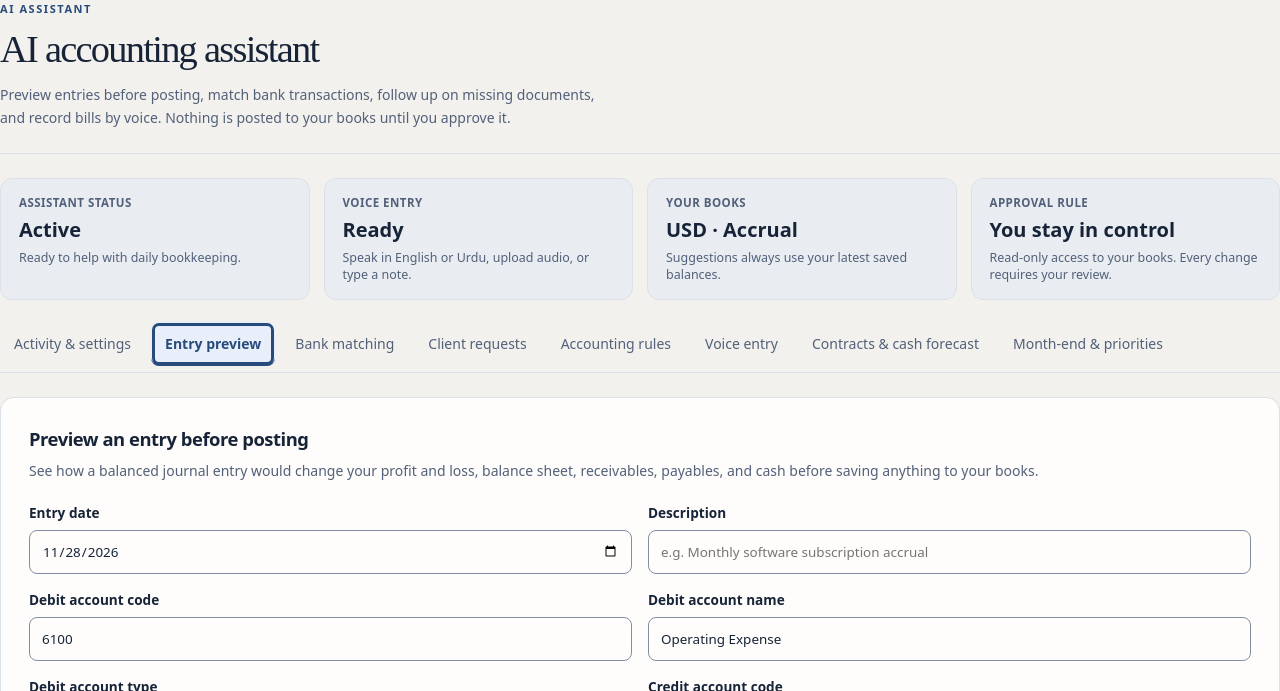
AI accounting assistant UI › renders plain-language summary, clean tabs, and voice audio controls without internal labels
Earlier steps of the test are not shown.
Expected: the heading "Preview an entry before posting" is shown, [29, 426, 308, 451]
Click the tab "Accounting rules" at (616, 344), box [547, 322, 685, 366]
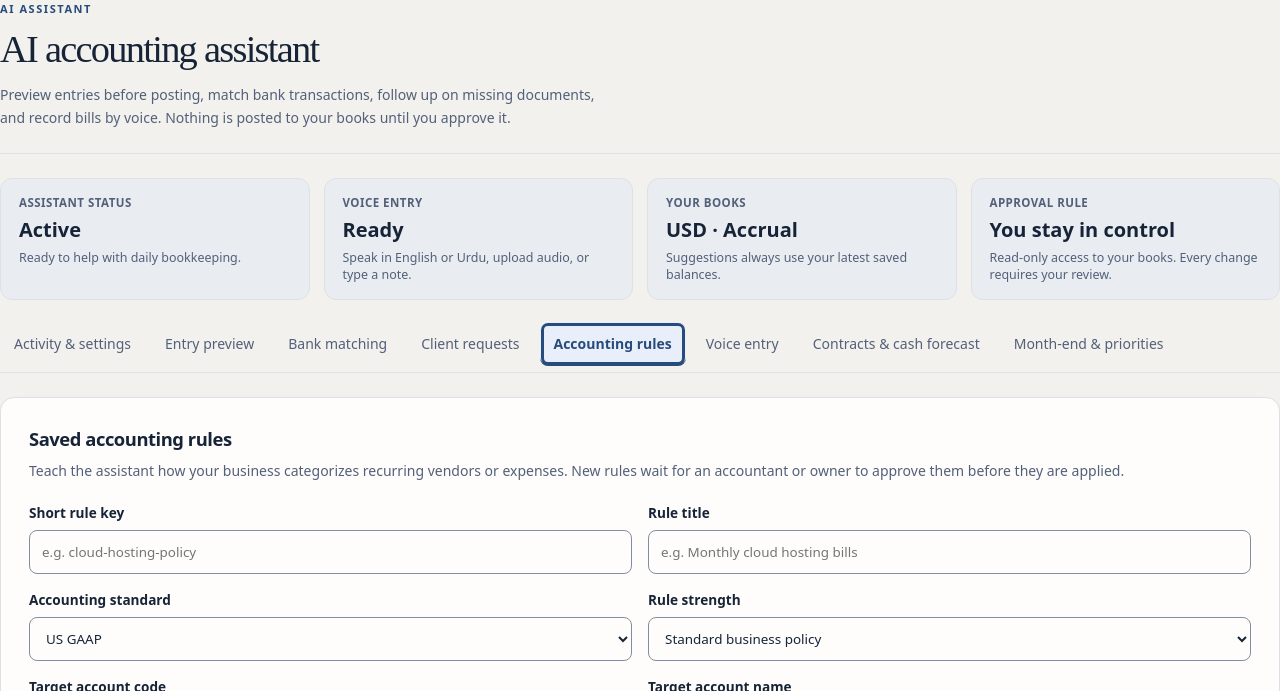
Now the heading "Saved accounting rules" is shown, box [29, 426, 232, 451]
Click the tab "Bank matching" at (338, 344), box [274, 322, 401, 366]
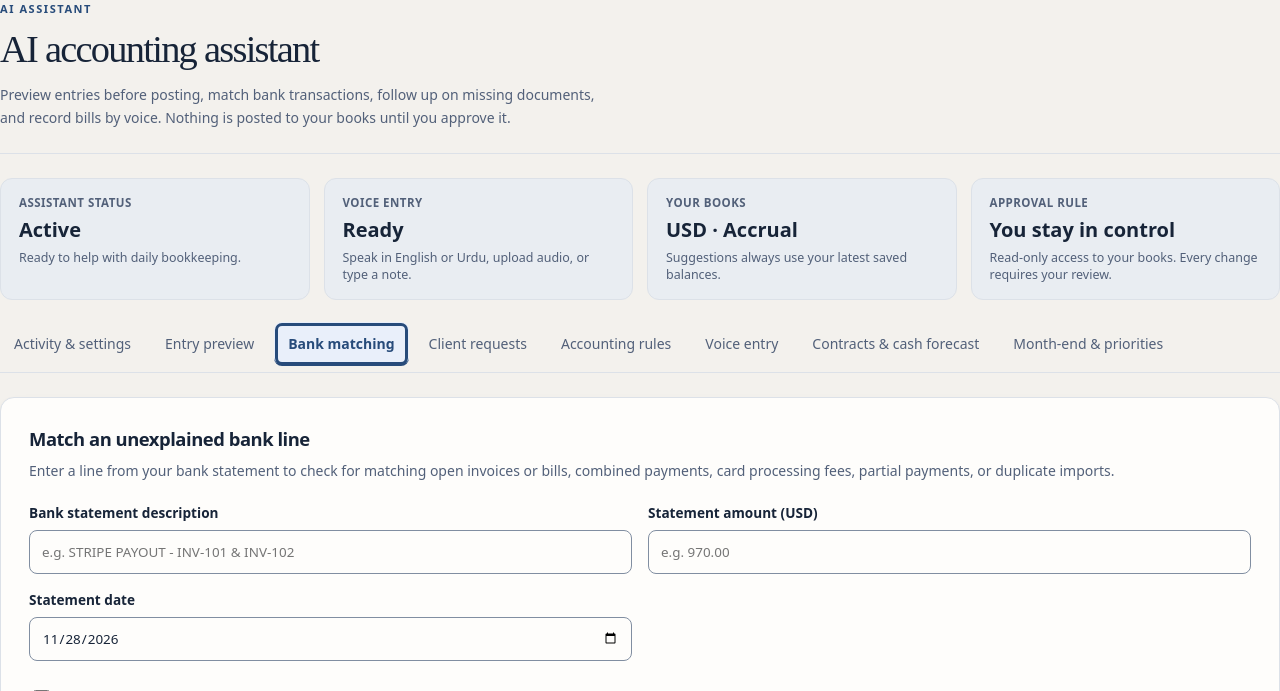
Now the heading "Match an unexplained bank line" is shown, box [29, 426, 310, 451]
Click the tab "Client requests" at (478, 344), box [415, 322, 541, 366]
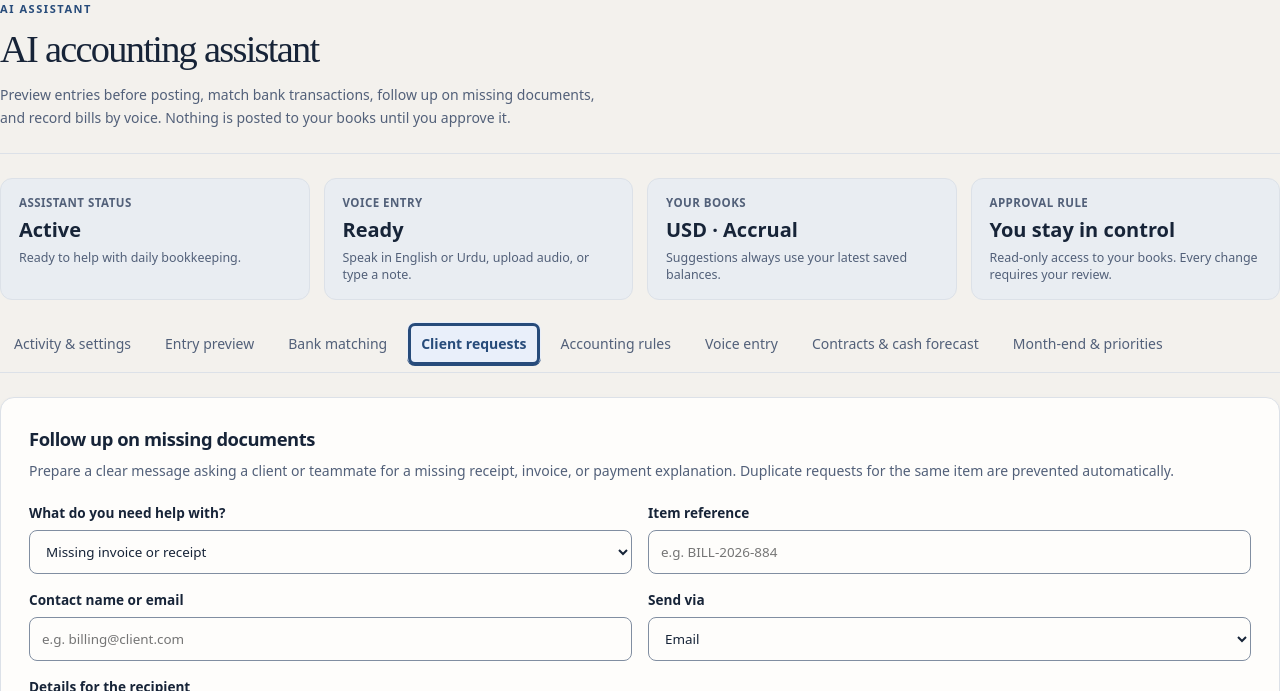
Now the heading "Follow up on missing documents" is shown, box [29, 426, 315, 451]
Click the tab "Month-end & priorities" at (1088, 344), box [999, 322, 1177, 366]
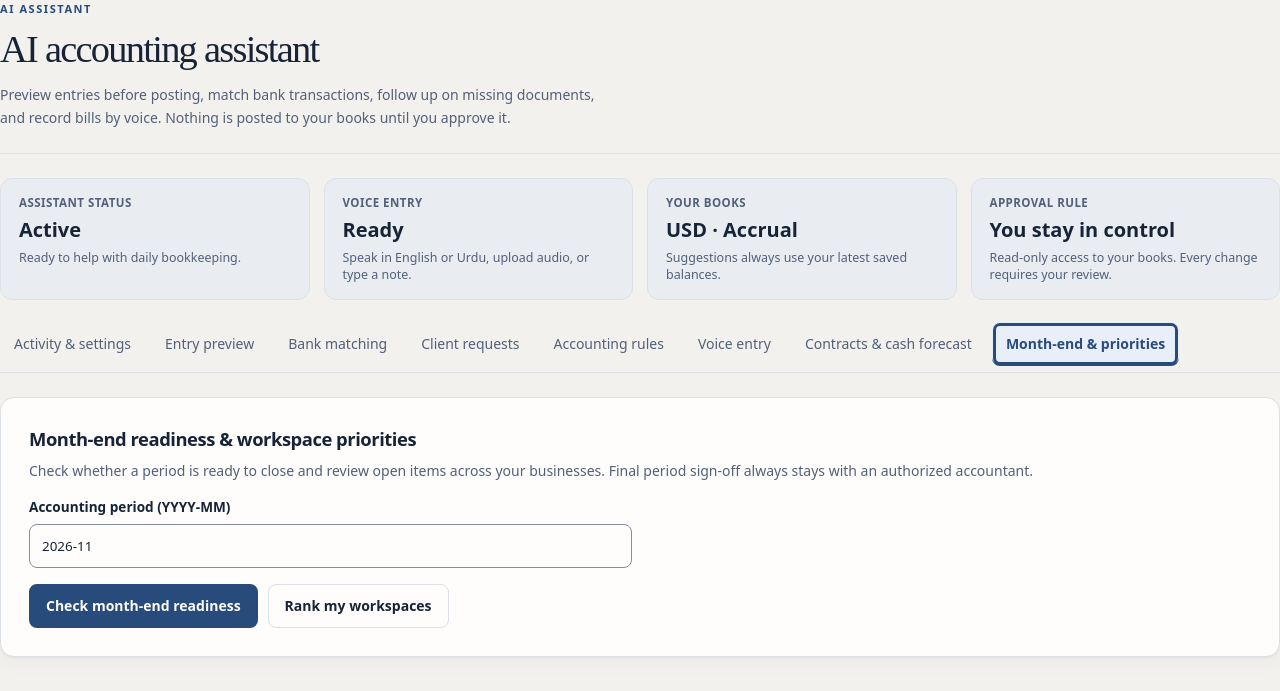
Now the heading "Month-end readiness & workspace priorities" is shown, box [29, 426, 416, 451]
Click the tab "Voice entry" at (734, 344), box [684, 322, 785, 366]
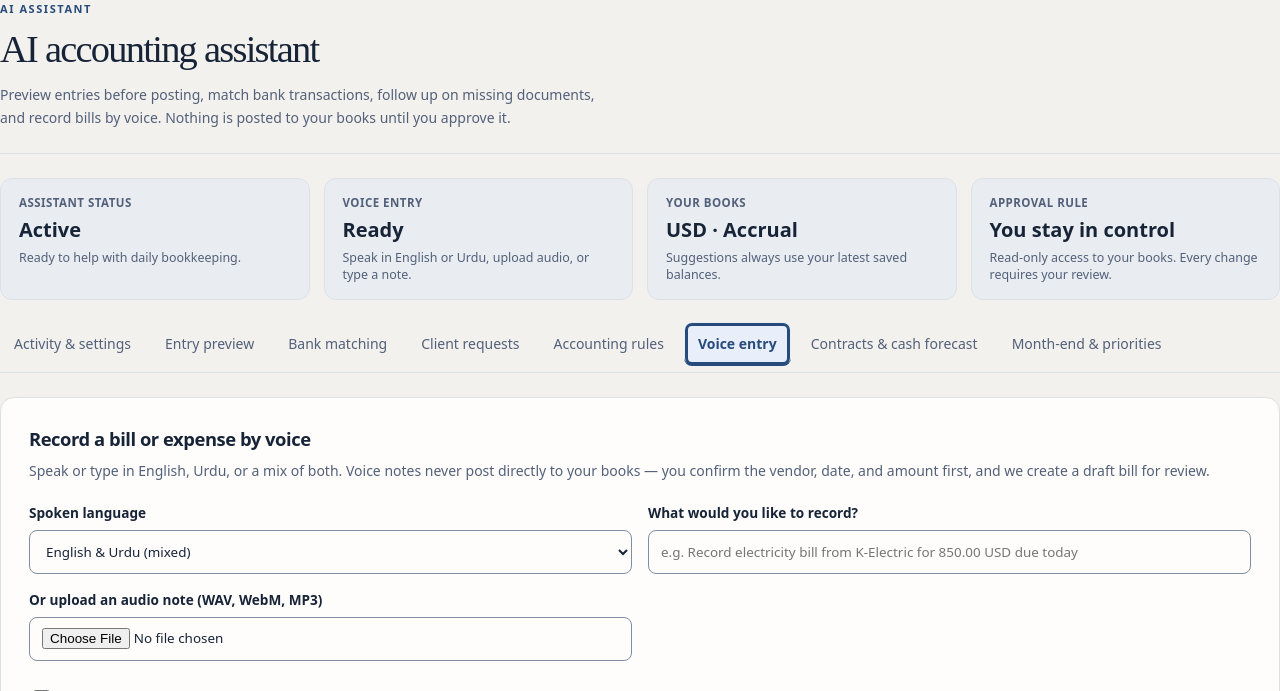
Now the heading "Record a bill or expense by voice" is shown, box [29, 426, 310, 451]
Now the file field named "Upload Audio Recording" is shown, box [29, 616, 632, 660]
Click the tab "Contracts & cash forecast" at (894, 344), box [797, 322, 992, 366]
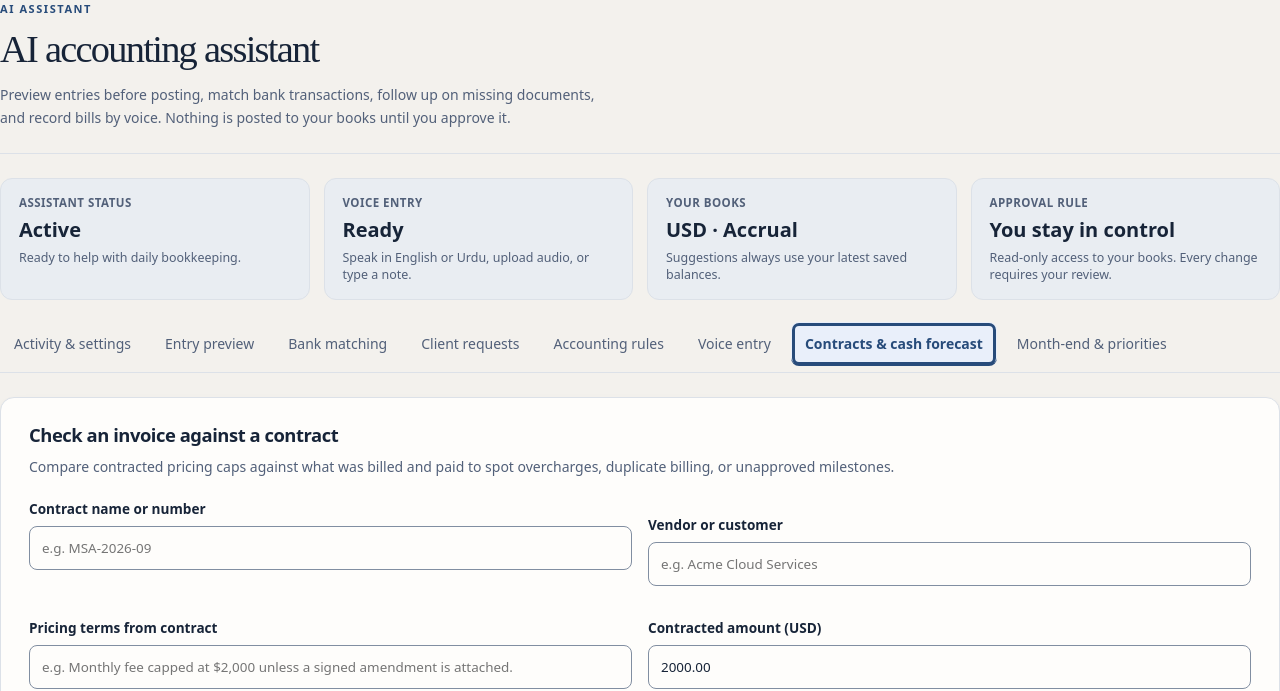
Now the heading "Check an invoice against a contract" is shown, box [29, 422, 338, 447]
